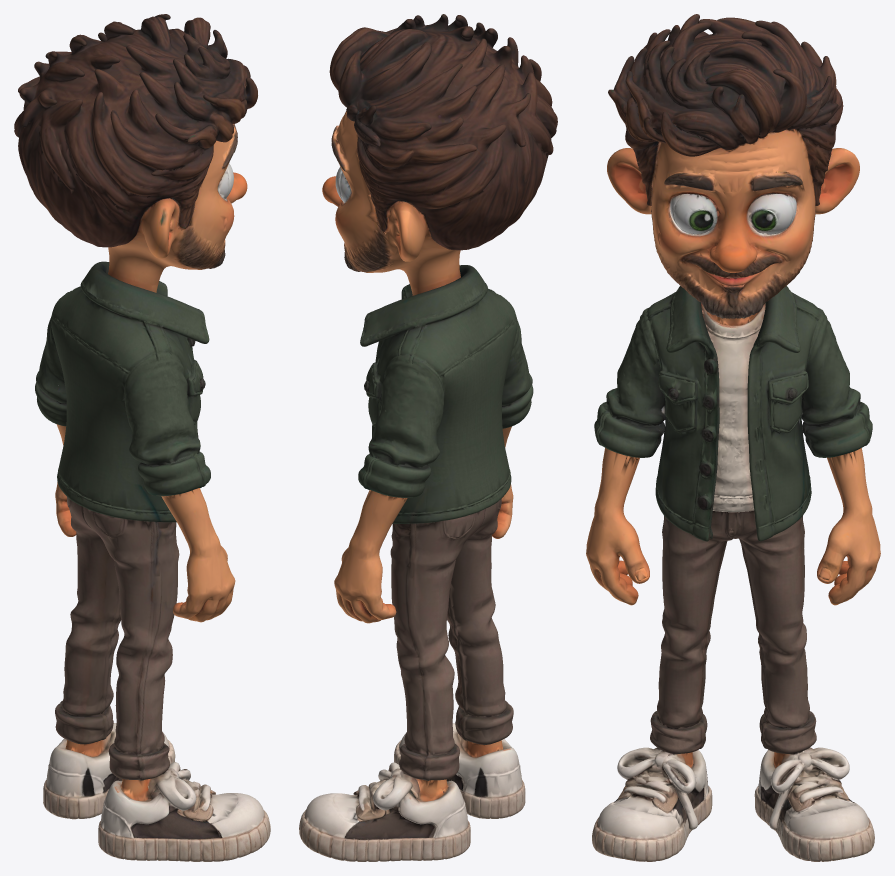
File: kyle-original-web.glb
3 views of the same model, side by side, from view 1: azimuth 30°, elevation 25°; view 2: azimuth 150°, elevation 25°; view 3: azimuth 270°, elevation 25° (orthographic).
Parts seen in each view (by area): view 1: Kyle_Body_Original; view 2: Kyle_Body_Original; view 3: Kyle_Body_Original.
Part boxes in pixels (x1,y1,x2,y2): Kyle_Body_Original: (14, 14, 270, 861); Kyle_Body_Original: (299, 14, 557, 861); Kyle_Body_Original: (586, 14, 880, 861).
Bounding box in the file's own units: 0.2779 × 0.9813 × 0.3273.
Materials: 1 (1 with a texture image).
